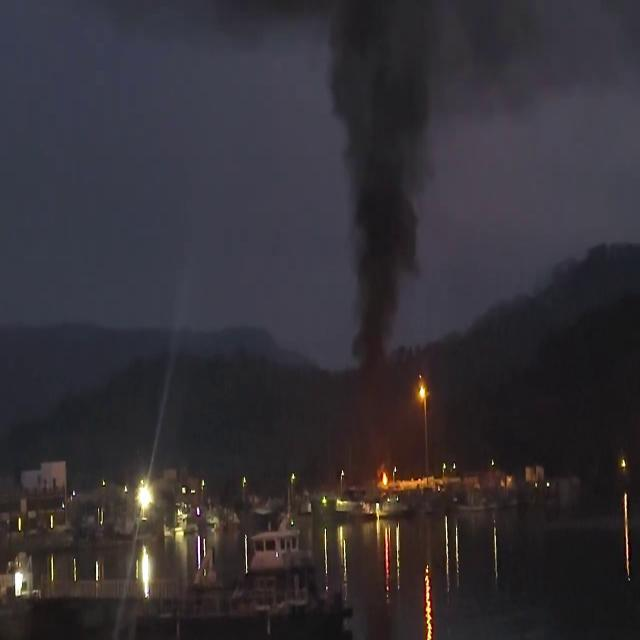Smoke: (324, 0, 439, 364)
